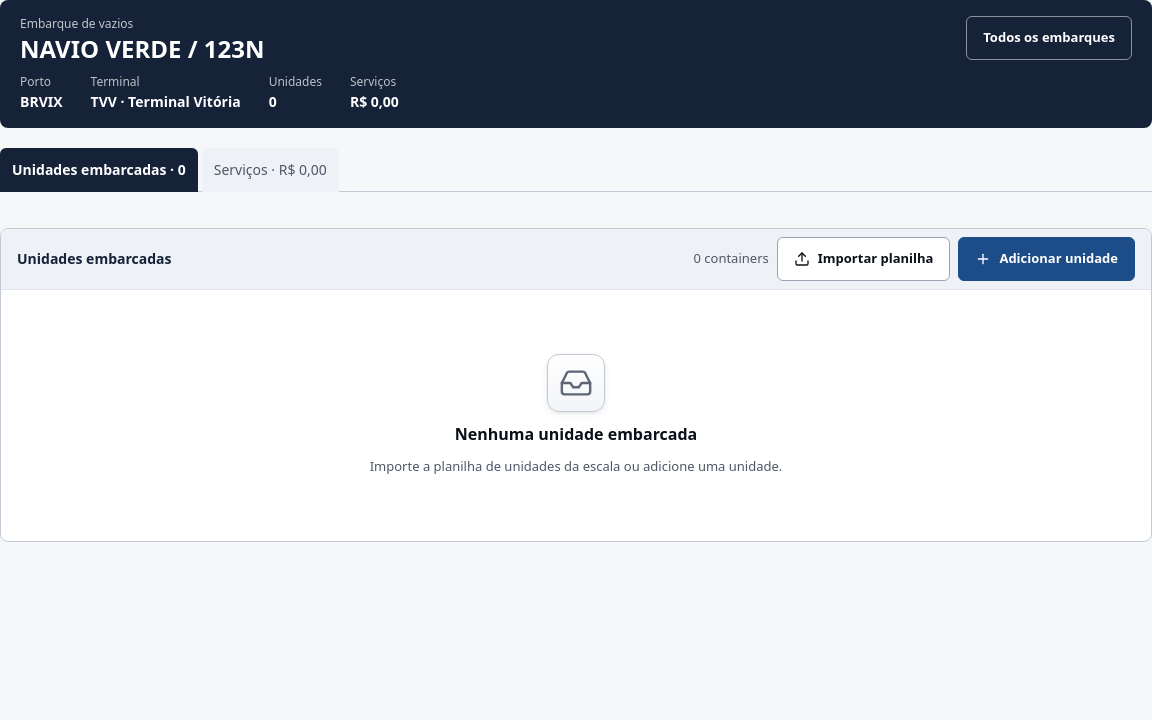
EmbarqueVazios › oferece somente o destino vinculado ao serviço de transporte
Click the tab "Serviços · R$ 0,00": (270, 170) [202,148,339,192]
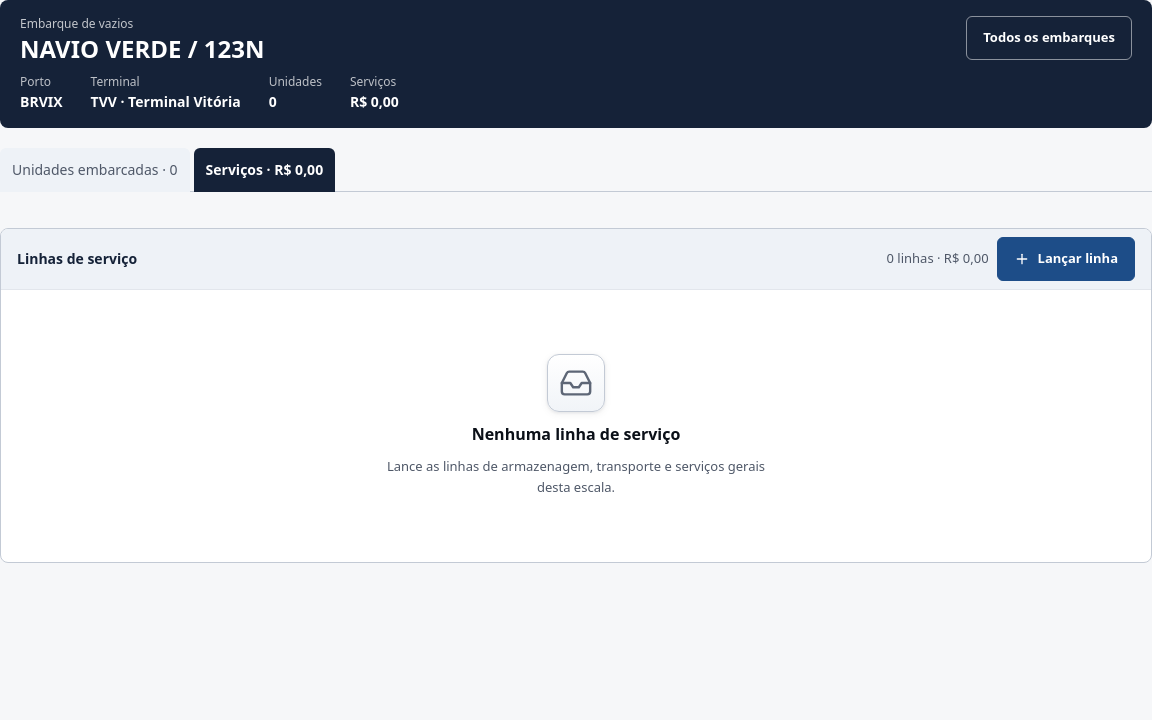
Click the button "Lançar linha": (1066, 259) [997,237,1135,281]
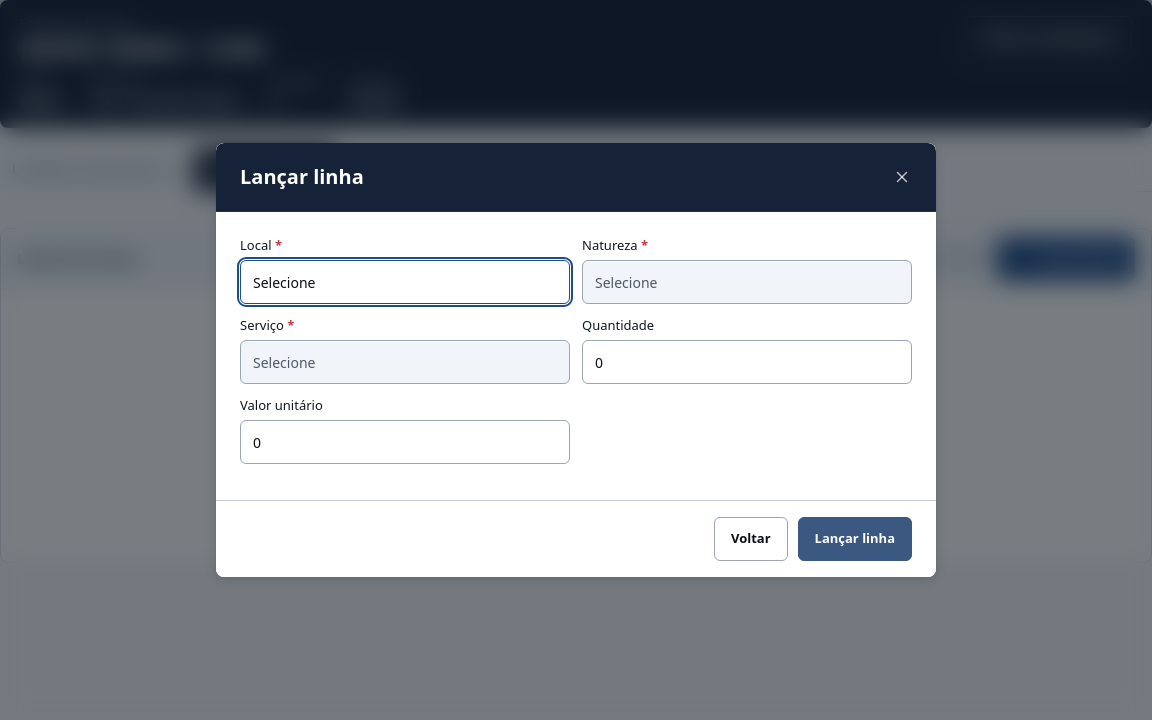
Select "VBR · Depot" in the dropdown labelled "Local *": (405, 282) [240,260,570,304]
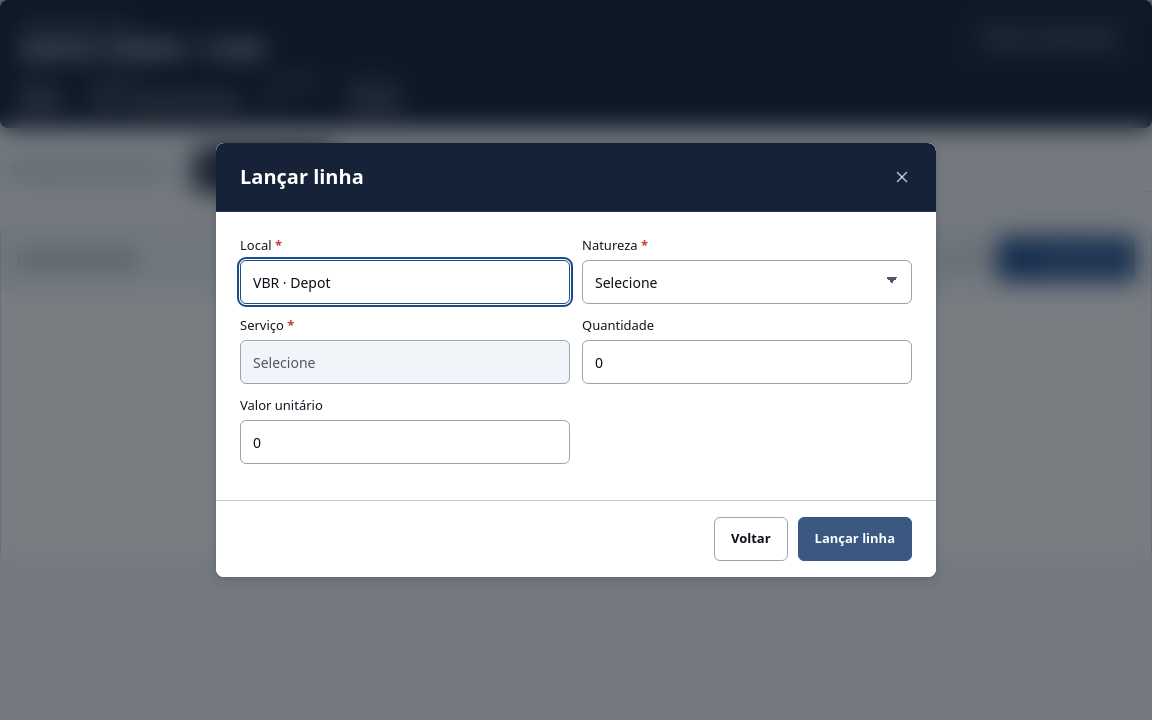
Select "Transporte" in the dropdown labelled "Natureza *": (747, 282) [582,260,912,304]
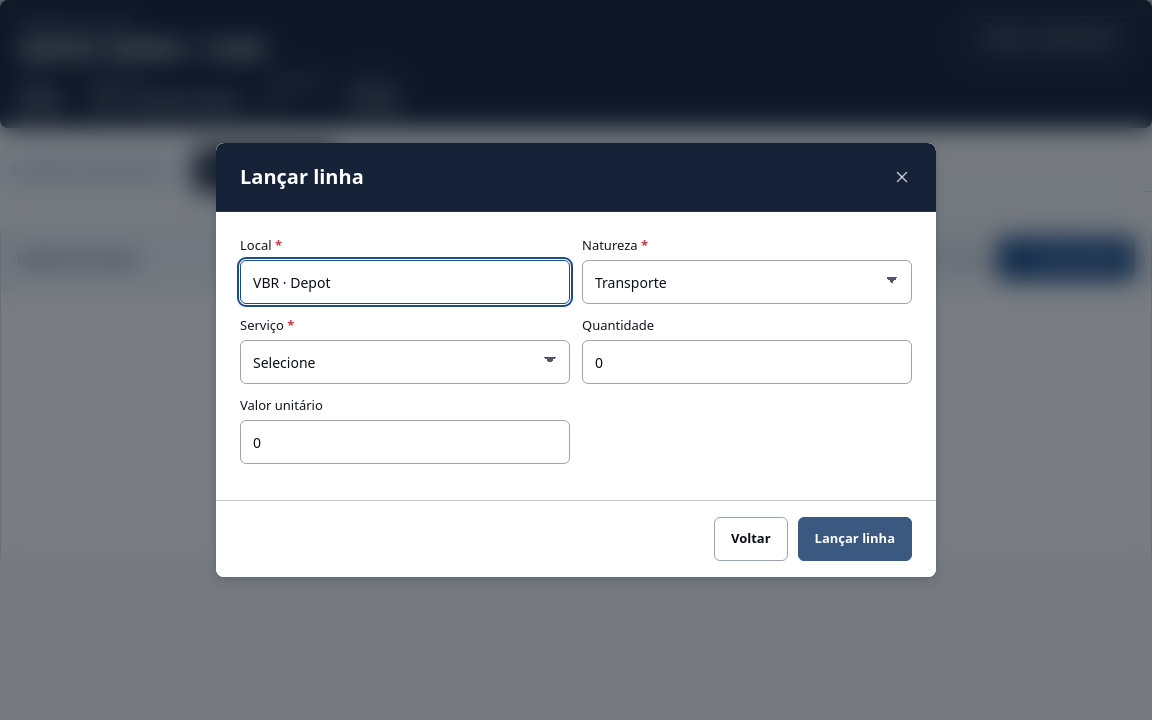
Select "Transporte · Transporte" in the dropdown labelled "Serviço *": (405, 362) [240,340,570,384]
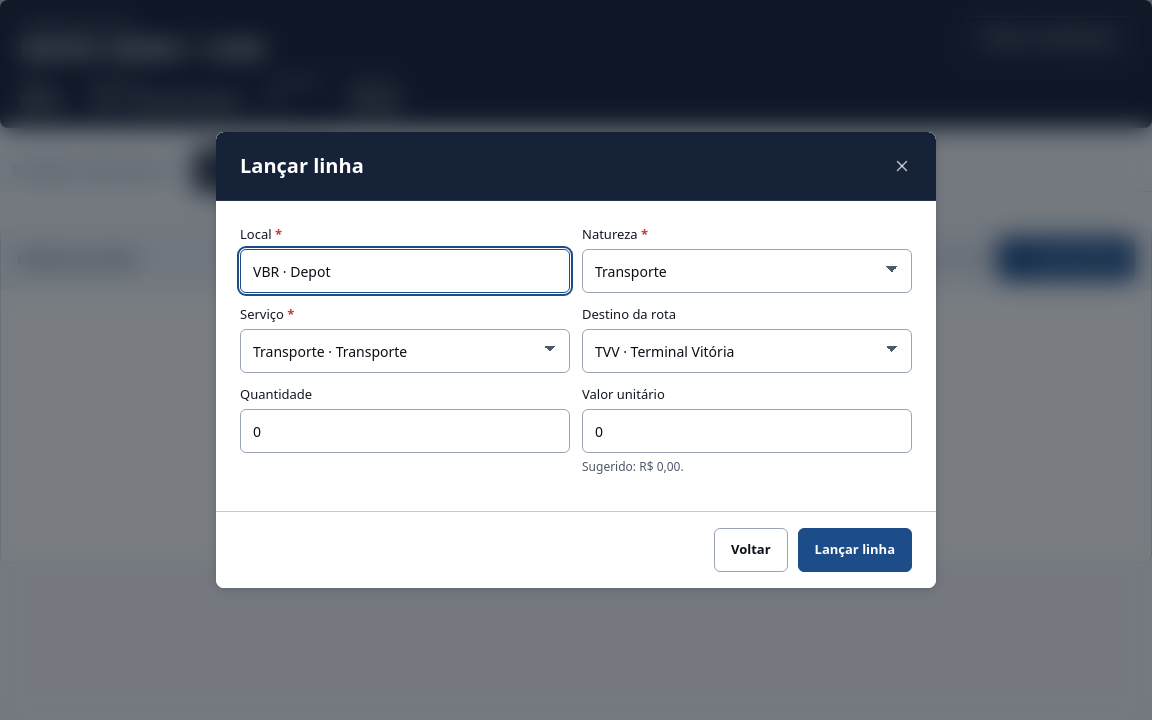
Check: the dropdown labelled "Destino da rota" is enabled, box [582,329,912,373]
